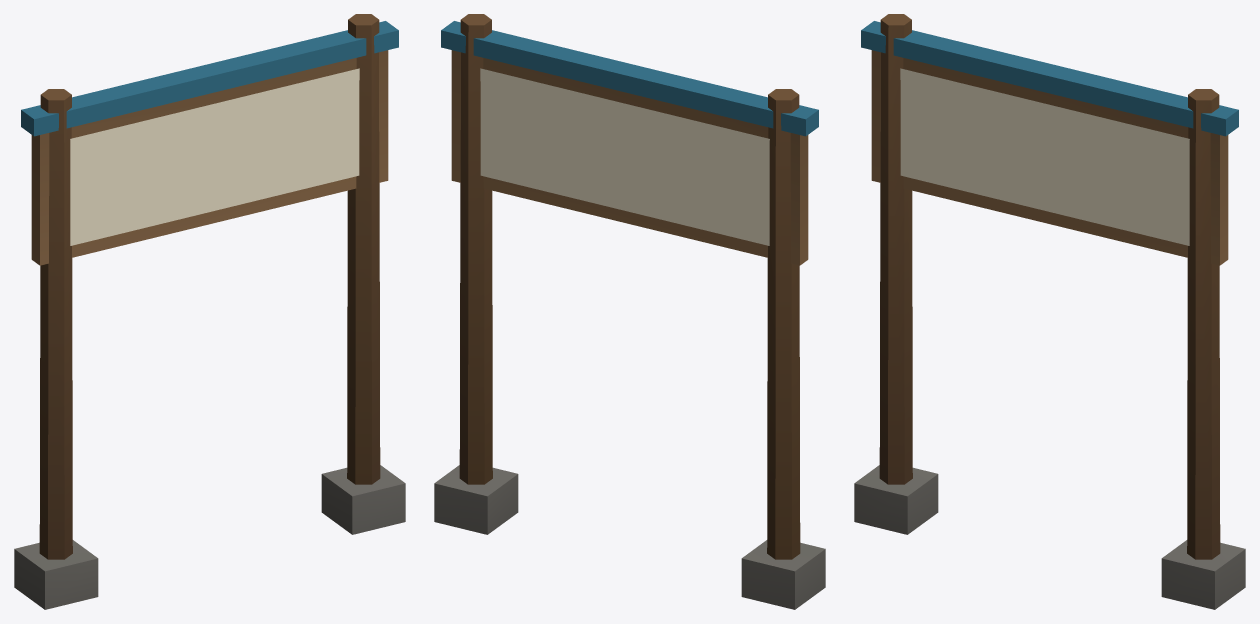
File: dock_dest_board_low.glb
3 renders of one model, left to right at view 1: azimuth 30°, elevation 25°; view 2: azimuth 150°, elevation 25°; view 3: azimuth 330°, elevation 25°, orthographic.
Parts seen in each view (by area): view 1: dock_dest_board, plate; view 2: dock_dest_board, plate; view 3: dock_dest_board, plate.
Part boxes in pixels (x1,y1,x2,y2): dock_dest_board: [14, 14, 405, 609]; plate: [70, 68, 359, 245]; dock_dest_board: [434, 14, 825, 609]; plate: [480, 68, 769, 245]; dock_dest_board: [854, 14, 1245, 609]; plate: [900, 68, 1189, 245].
Size of the model in its own units: 1.78 by 2.32 by 0.26.
